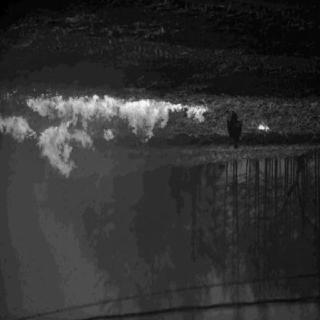Fire: (0, 116, 91, 184)
